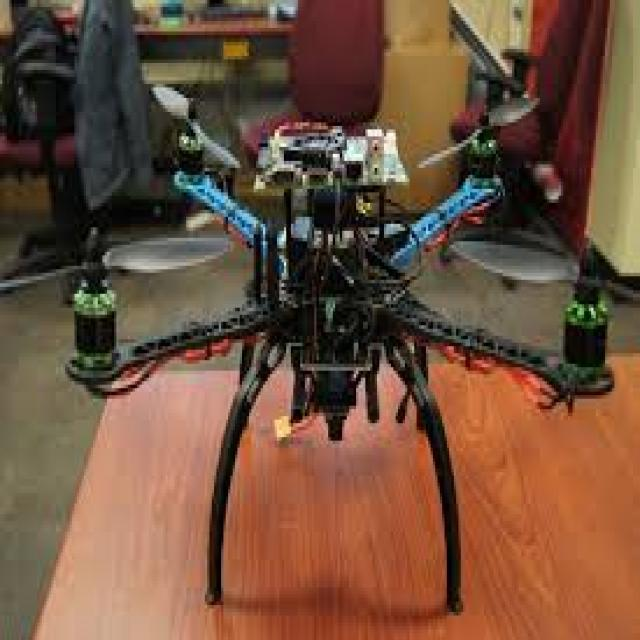drone: (25, 65, 618, 605)
